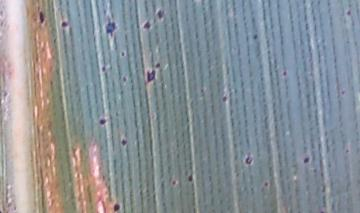tarspot: (103, 13, 118, 39), (146, 69, 157, 84), (243, 153, 254, 166), (155, 9, 166, 21), (38, 9, 46, 25), (98, 117, 108, 126), (143, 20, 152, 30), (112, 203, 121, 212), (100, 63, 108, 73), (119, 138, 129, 146), (60, 20, 69, 28), (186, 174, 194, 183), (302, 156, 311, 164), (154, 61, 162, 69), (171, 179, 179, 187), (221, 95, 229, 103), (281, 69, 289, 77), (121, 75, 128, 84), (252, 33, 259, 40), (263, 181, 270, 188), (344, 147, 351, 154), (346, 9, 353, 16), (340, 88, 346, 96), (121, 50, 126, 57)
